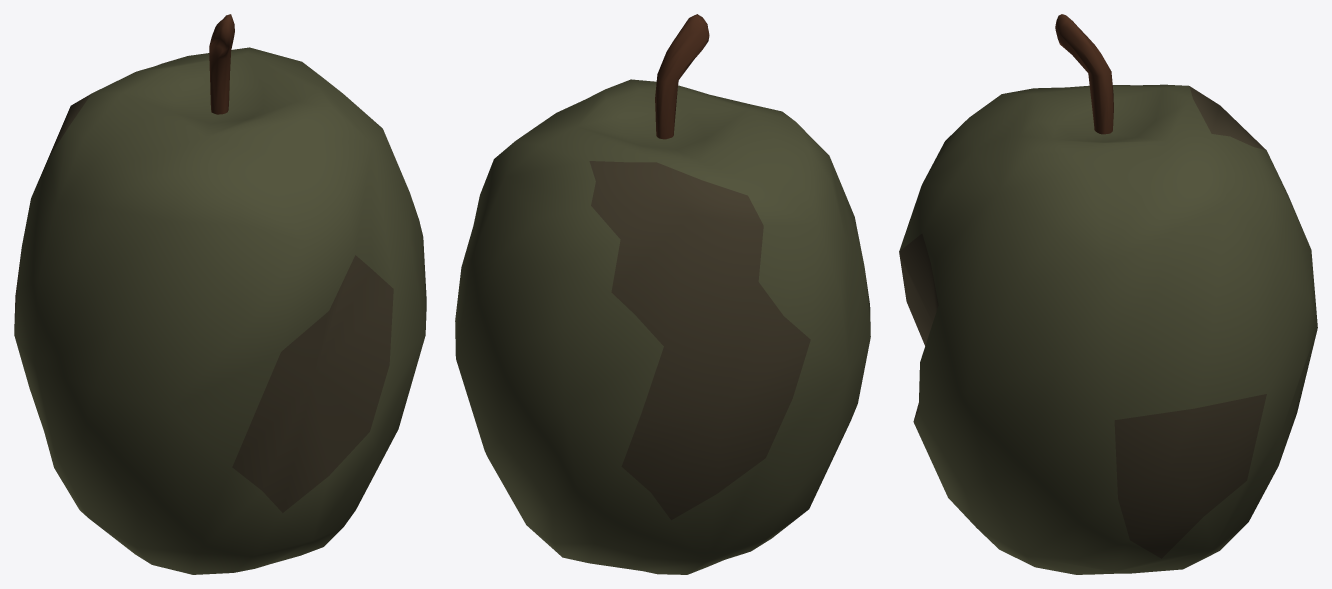
The model's file is Green_Apple_rotten.fbx.
The picture shows the model from 3 angles, left to right: view 1: azimuth 30°, elevation 25°; view 2: azimuth 150°, elevation 25°; view 3: azimuth 270°, elevation 25°; orthographic projection. The views are drawn at different scales.
Parts seen in each view (by area): view 1: polySurface3, polySurface4; view 2: polySurface3, polySurface4; view 3: polySurface3, polySurface4.
Part boxes in pixels (x1,y1,x2,y2): polySurface3: [14, 47, 426, 574]; polySurface4: [209, 14, 234, 114]; polySurface3: [455, 79, 870, 574]; polySurface4: [655, 14, 709, 139]; polySurface3: [899, 84, 1317, 574]; polySurface4: [1055, 14, 1113, 134].
Size of the model in its own units: 1.09 by 1.51 by 1.08.
